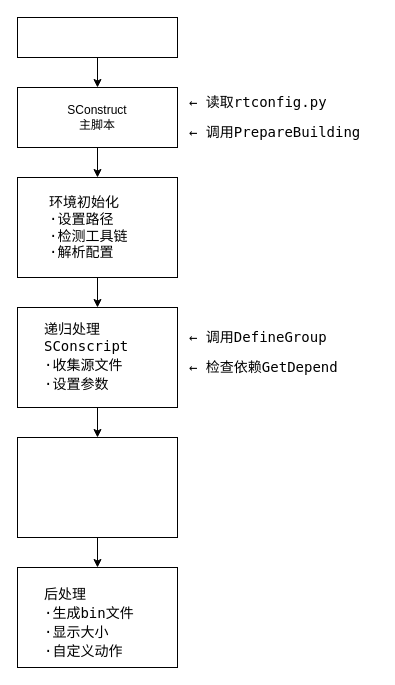
This 395x685 diagram has some shape labels left out. The centre of each missing label's shape, as x and y in pixels:
"构建执行 DoBuilding ·合并对象 ·链接程序" belongs at point 97,487.
"用户输入 scons" belongs at point 97,37.
